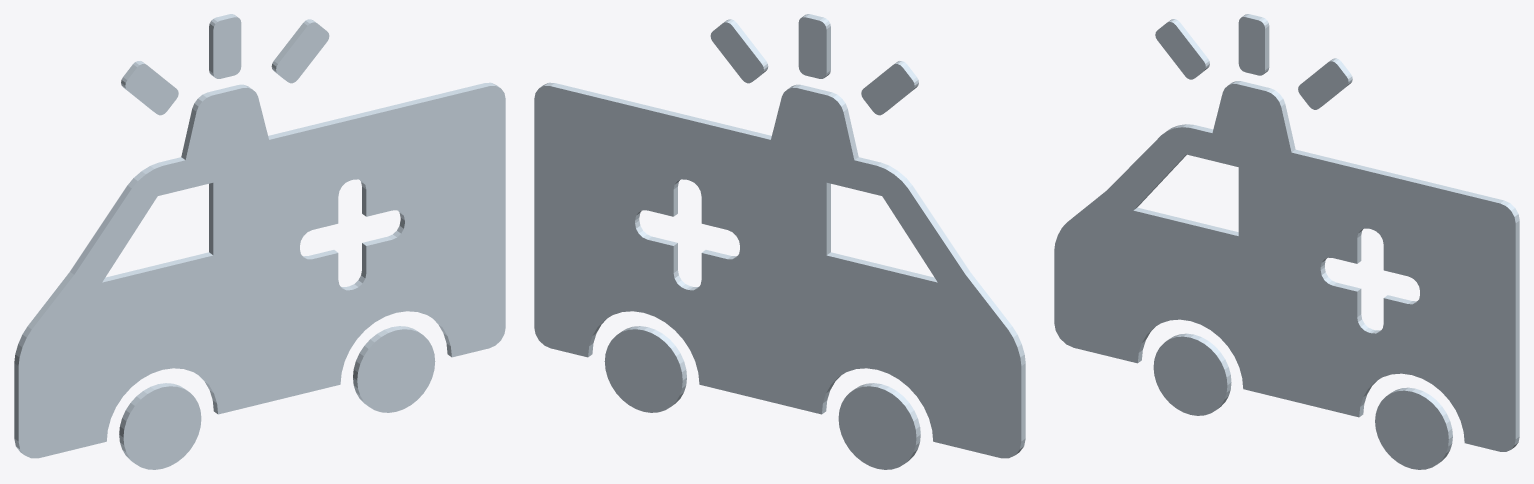
The model's file is Ambulance_3D_Icon.fbx.
The picture shows the model from 3 angles, left to right: view 1: azimuth 30°, elevation 25°; view 2: azimuth 150°, elevation 25°; view 3: azimuth 330°, elevation 25°; orthographic projection. The views are drawn at different scales.
Parts seen in each view (by area): view 1: Ambulance_3D_Icon; view 2: Ambulance_3D_Icon; view 3: Ambulance_3D_Icon.
Boxes of the visible parts, left/top/right/bottom form: Ambulance_3D_Icon: left=14, top=14, right=505, bottom=469; Ambulance_3D_Icon: left=534, top=14, right=1025, bottom=469; Ambulance_3D_Icon: left=1054, top=14, right=1519, bottom=469.
Bounding box in the file's own units: 129 × 110 × 2.
